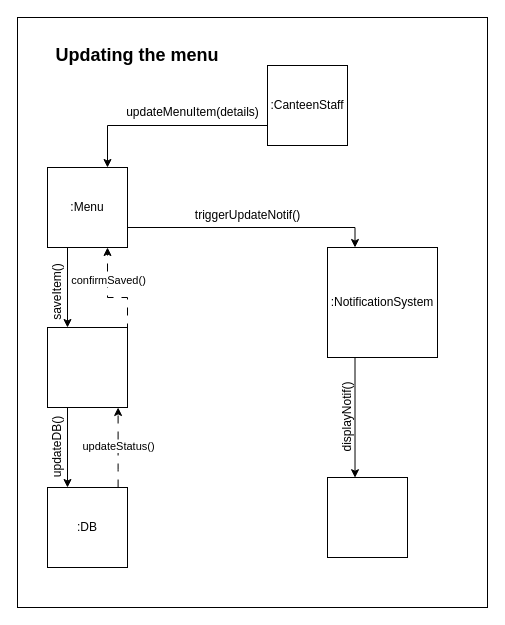
The diagram is 505 pixels wide and 625 high, and some of its shapes have lost their labels. The shapes that lost their labels are listed below. From the top down, each one's box as (x1, y1, x2, y2) in pixels, then its label:
(46, 326, 128, 408): :DataManager
(326, 476, 408, 558): :CustomerApp
